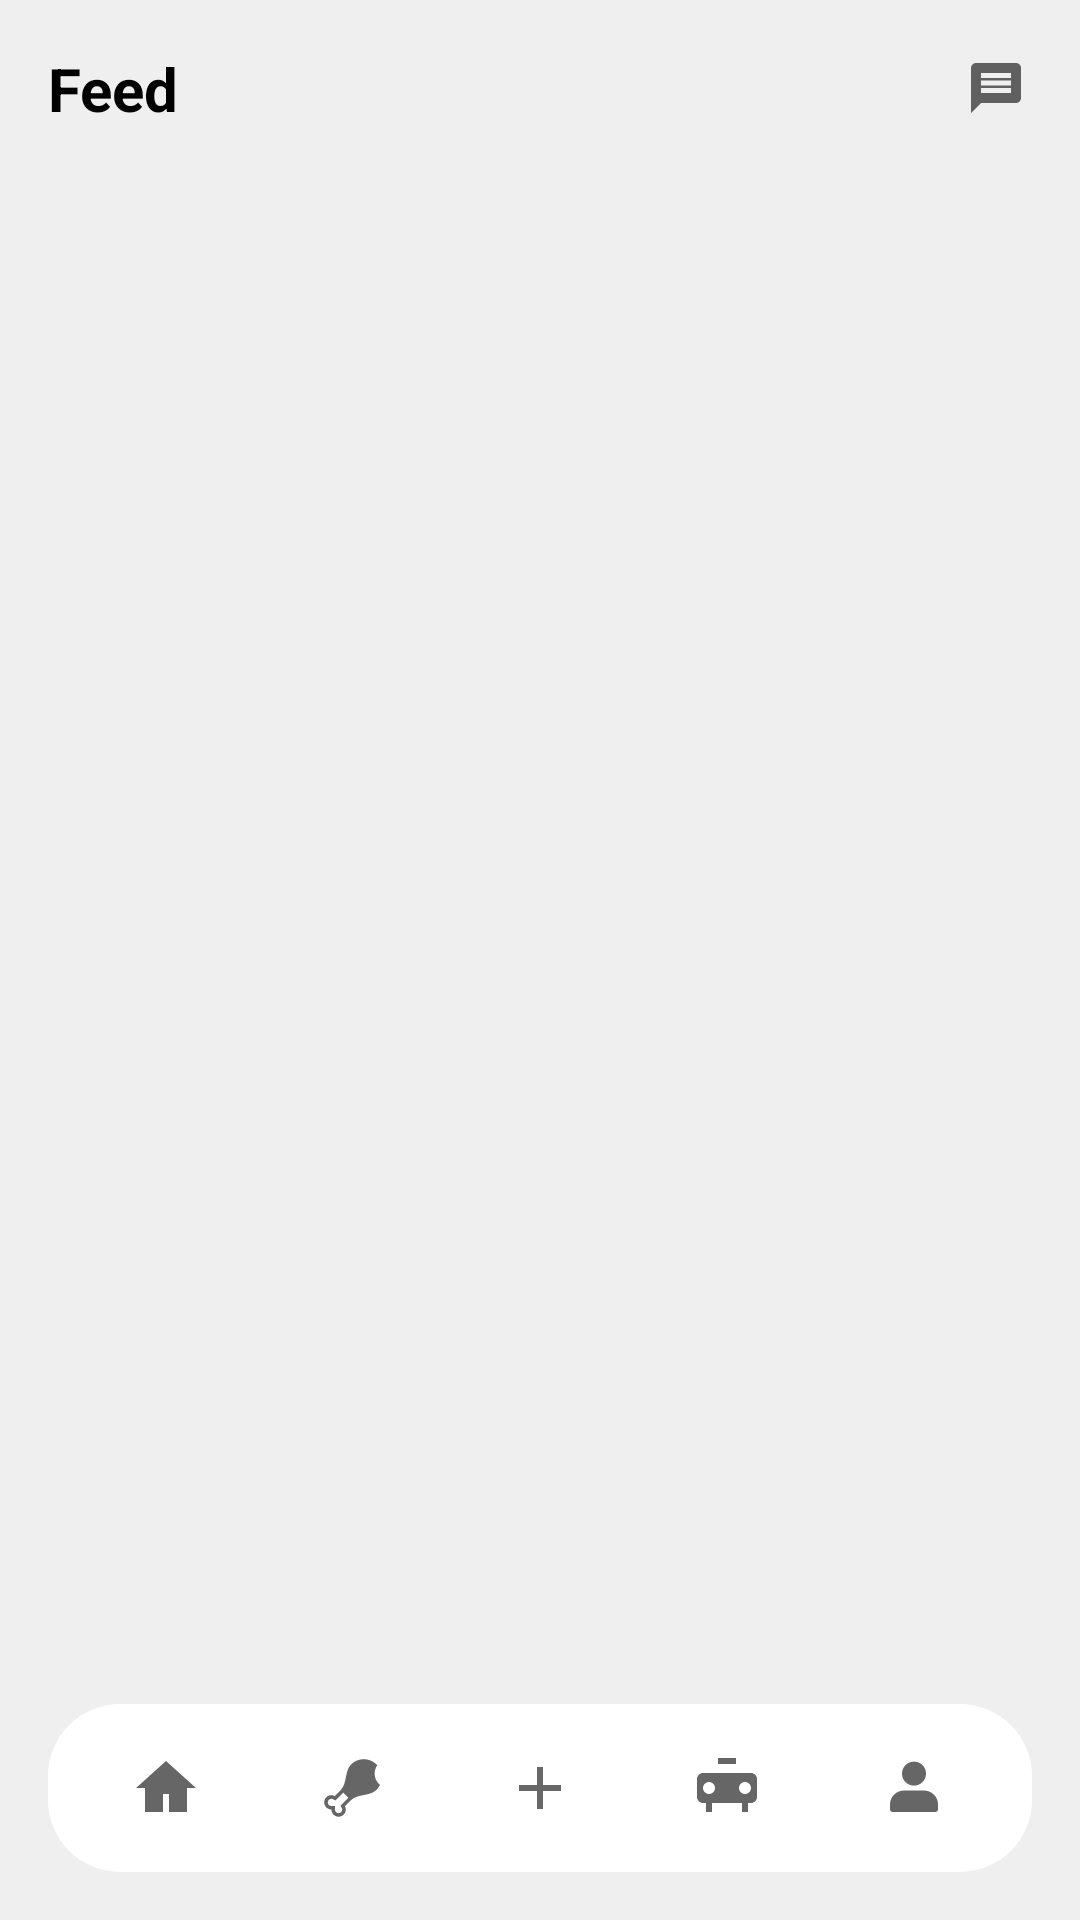

Named icons in this screenshot (1080×1920) and their centers, (x,y):
add: (540,1788)
food: (352,1788)
home: (166,1786)
message: (996,88)
profile: (914,1786)
